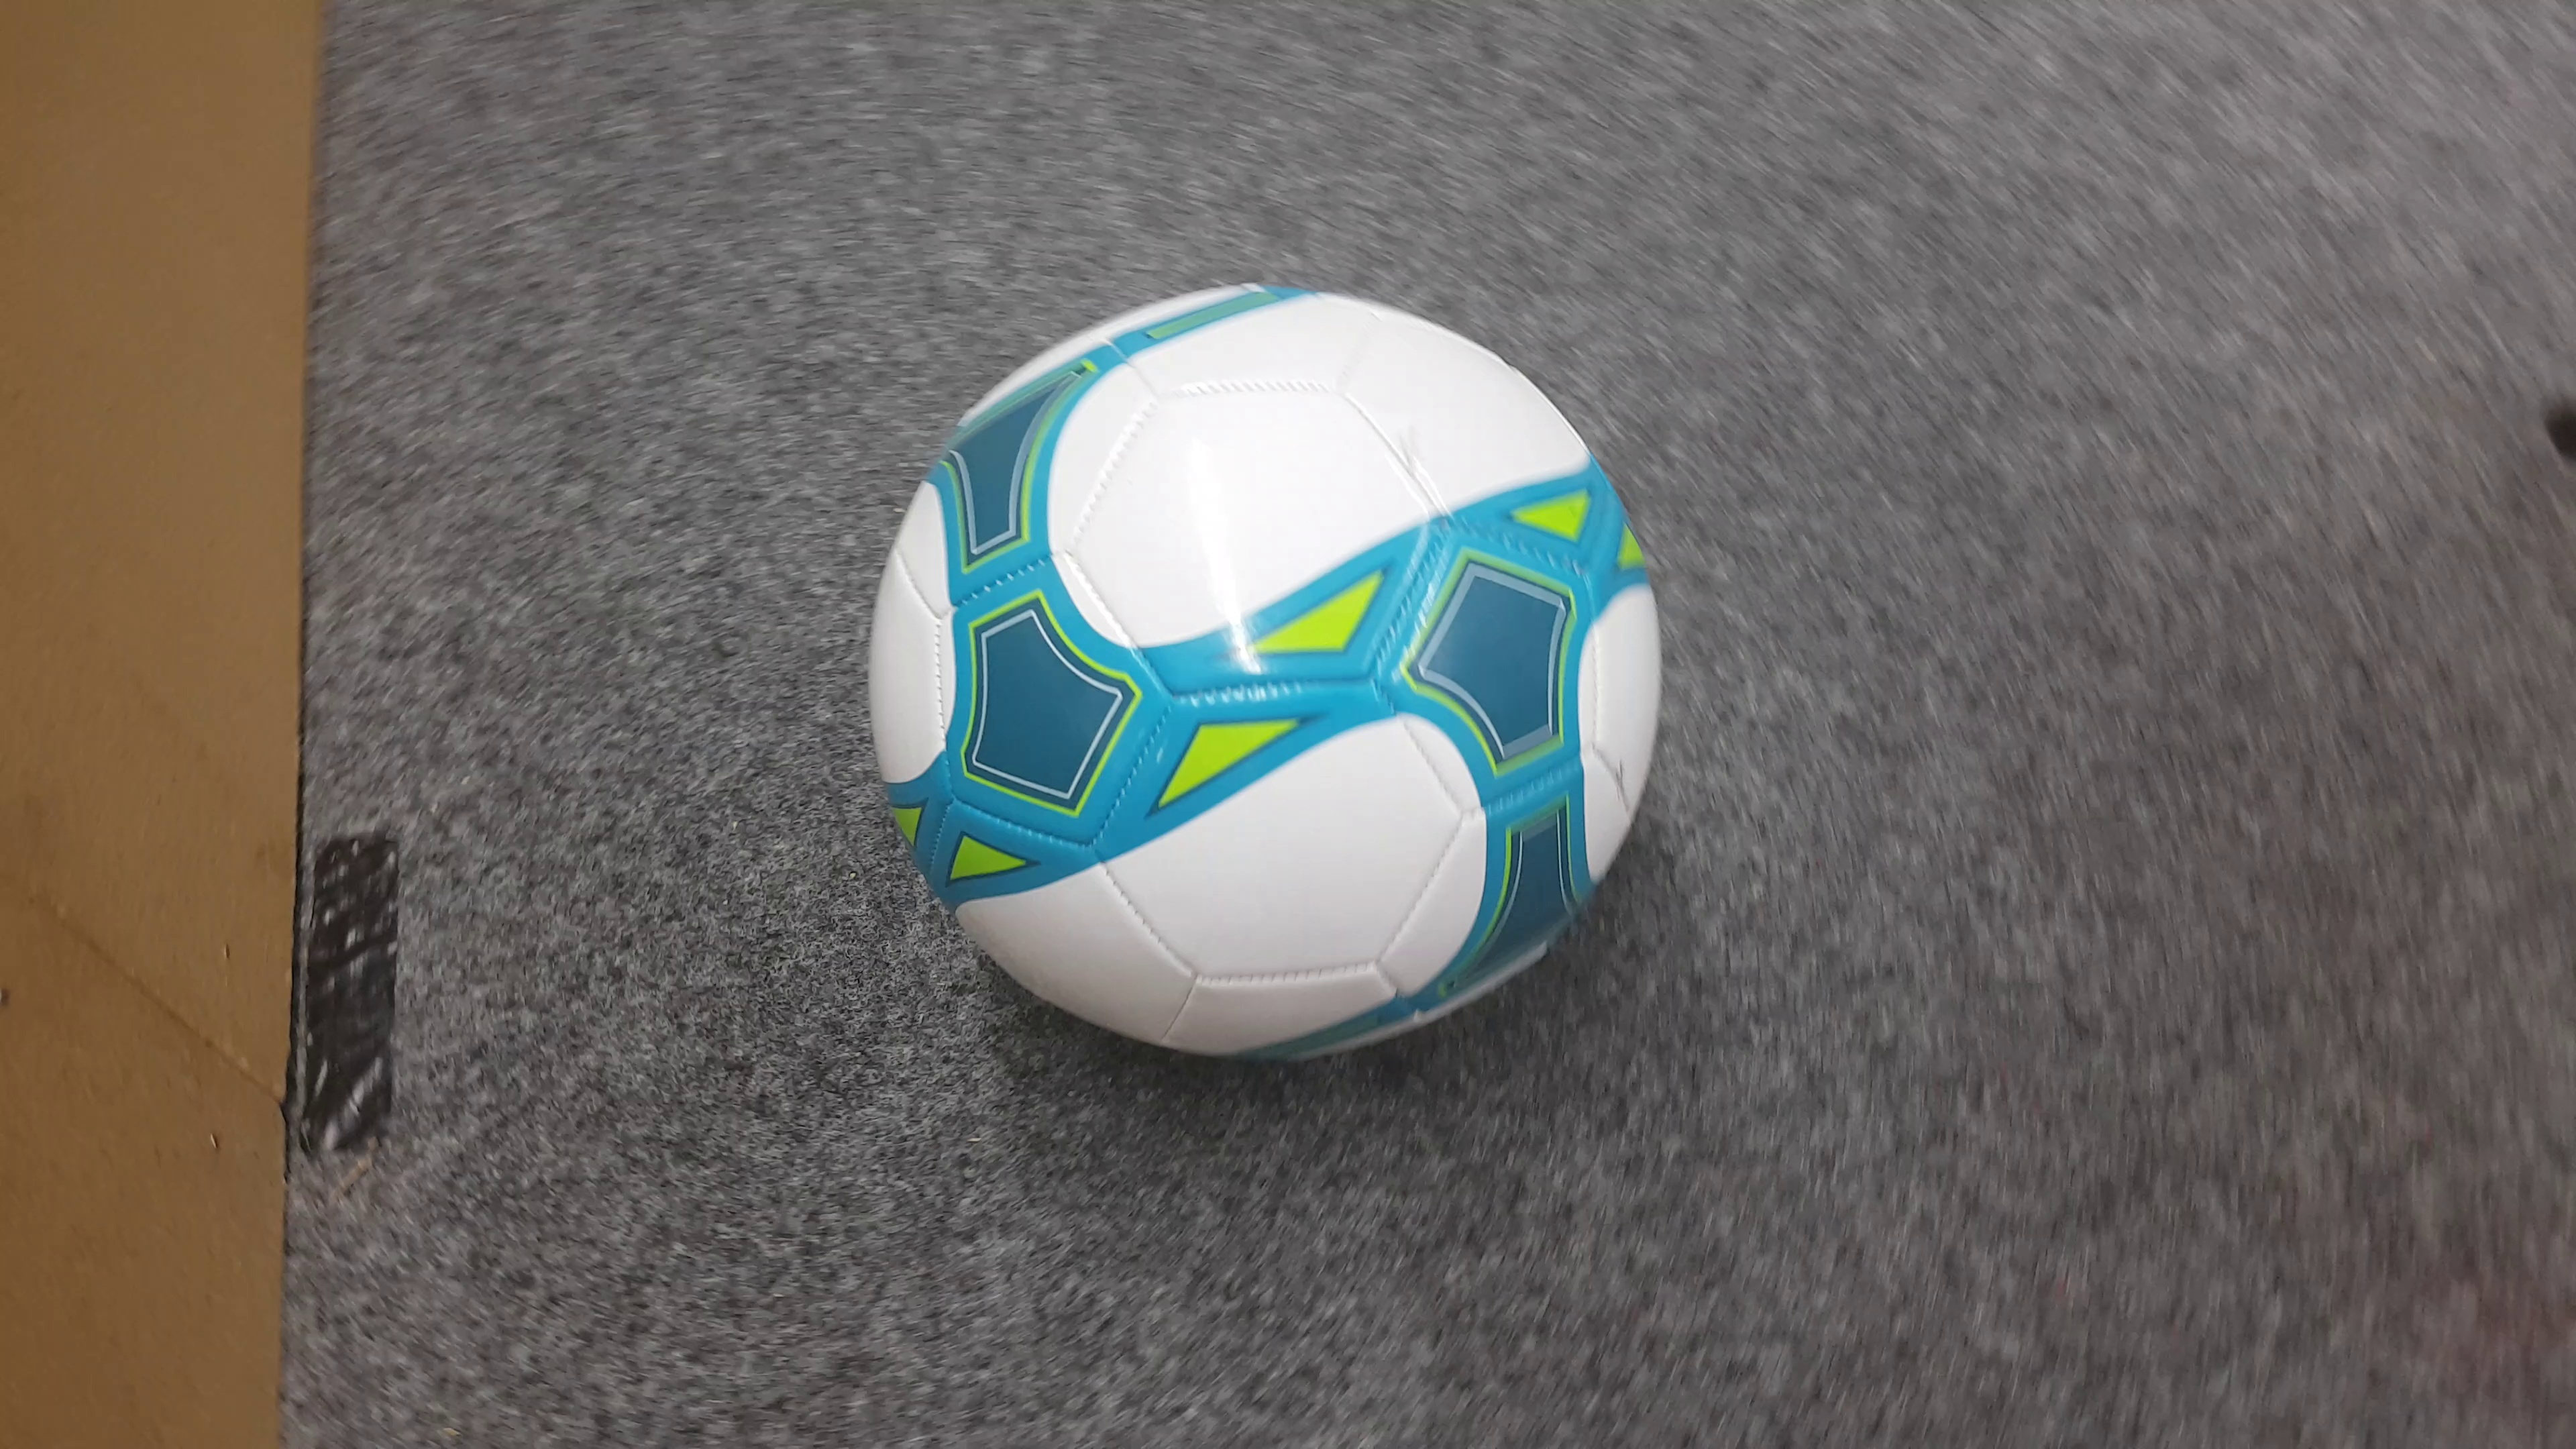kick: (862, 280, 1668, 1056)
